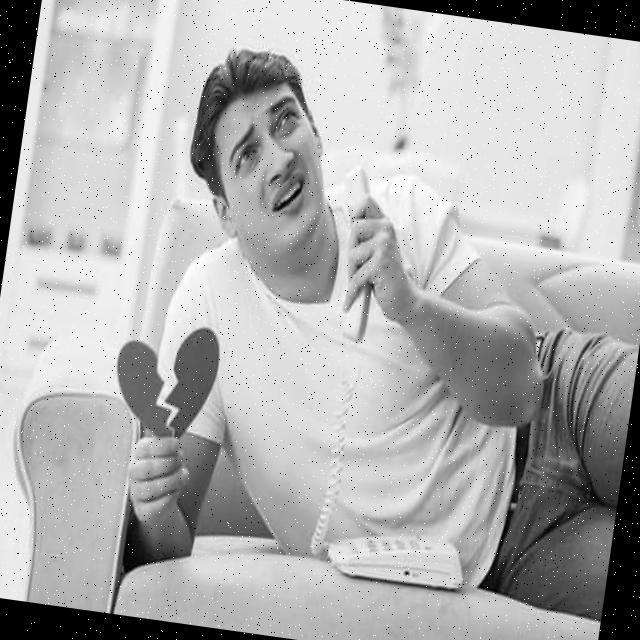Sadness: (216, 84, 332, 253)
